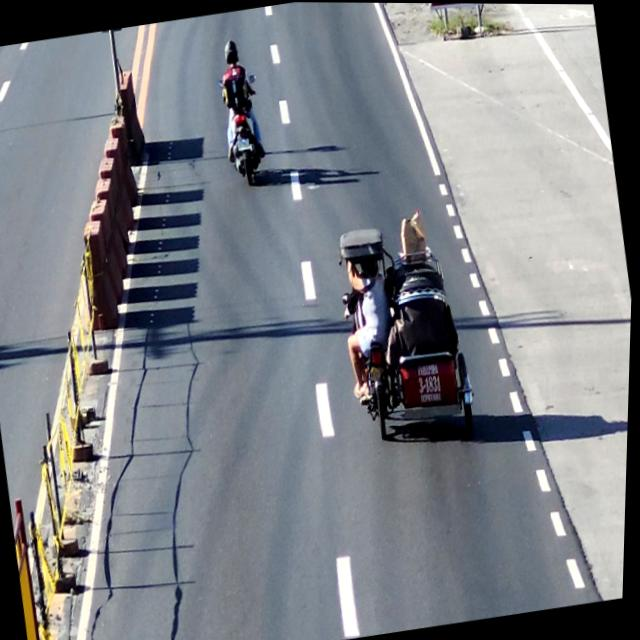Motorcycle: (208, 31, 281, 198)
Tricycle: (329, 206, 490, 450)
